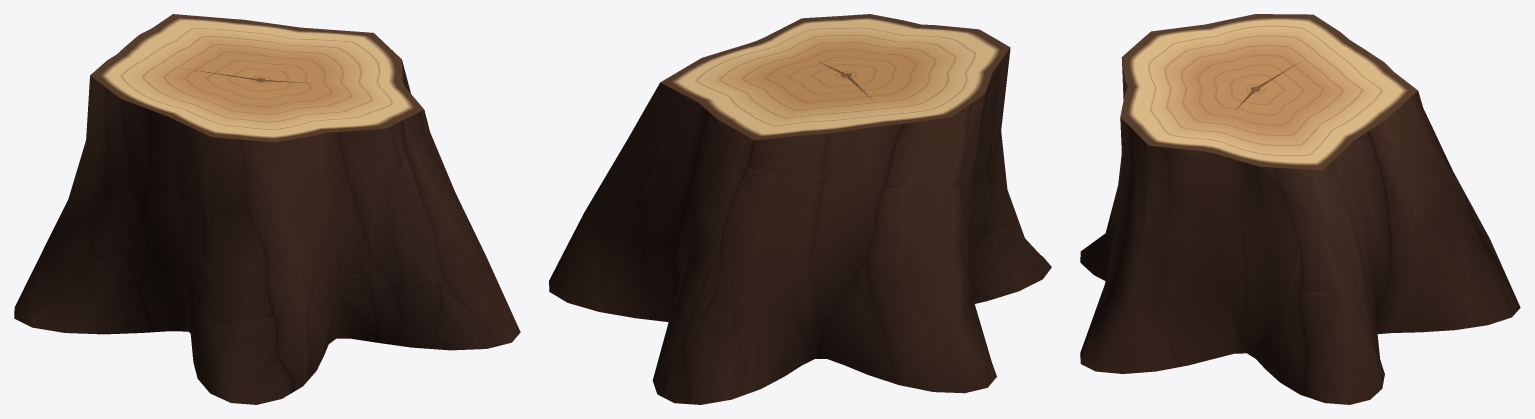
File: Stump_CommonTree_4.gltf
3 views of the same model, side by side, from view 1: azimuth 30°, elevation 25°; view 2: azimuth 150°, elevation 25°; view 3: azimuth 270°, elevation 25° (orthographic). The views are drawn at different scales.
Parts seen in each view (by area): view 1: Stump_CommonTree_4; view 2: Stump_CommonTree_4; view 3: Stump_CommonTree_4.
Part boxes in pixels (box(x1,y1,x2,y2)): Stump_CommonTree_4: box(14, 14, 520, 404); Stump_CommonTree_4: box(549, 14, 1051, 404); Stump_CommonTree_4: box(1080, 14, 1520, 404).
Size of the model in its own units: 1.42 by 0.7488 by 1.35.
Materials: 2 (2 with a texture image).
